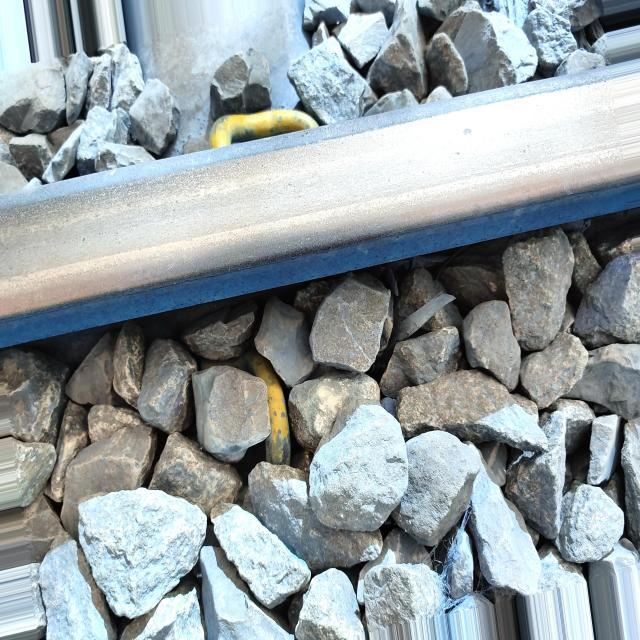Good Fasteners: (245, 351, 290, 465), (209, 109, 318, 149)
